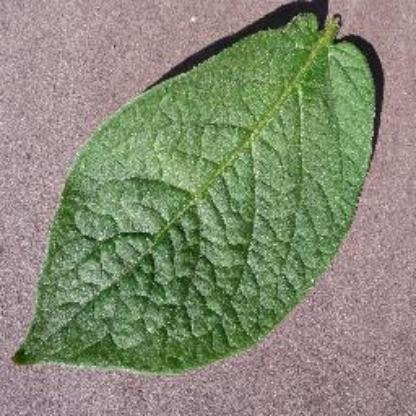Healthy-plant: (13, 6, 385, 374)
